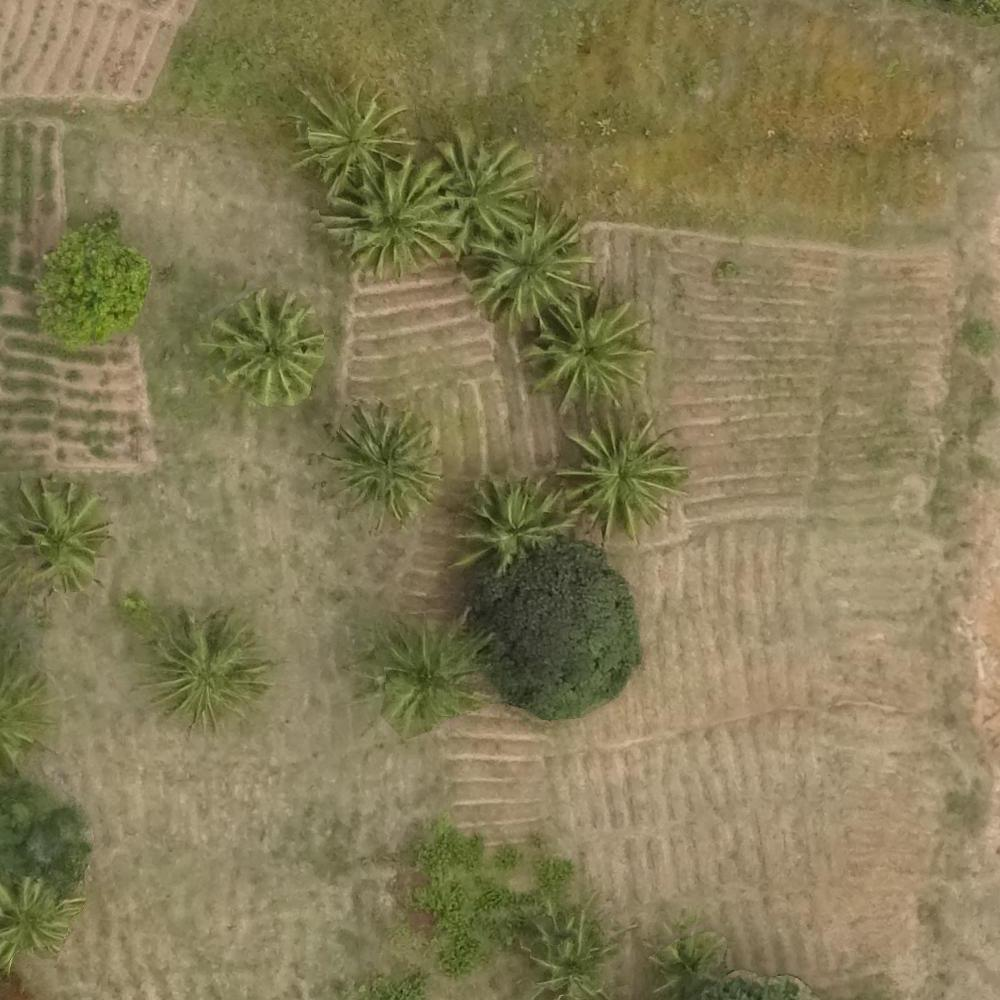Palm: (358, 614, 494, 732), (528, 292, 650, 411), (143, 615, 264, 727), (563, 423, 682, 534), (470, 211, 586, 321), (1, 478, 104, 597), (334, 161, 449, 267), (328, 408, 435, 519), (428, 123, 531, 236), (457, 473, 568, 575), (211, 299, 315, 407), (292, 83, 401, 185), (1, 888, 74, 965)
